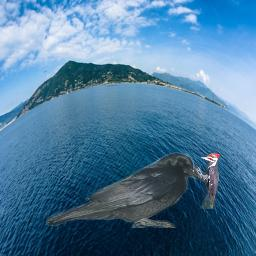Crow: (45, 152, 201, 228)
Woodpecker: (192, 153, 221, 209)
